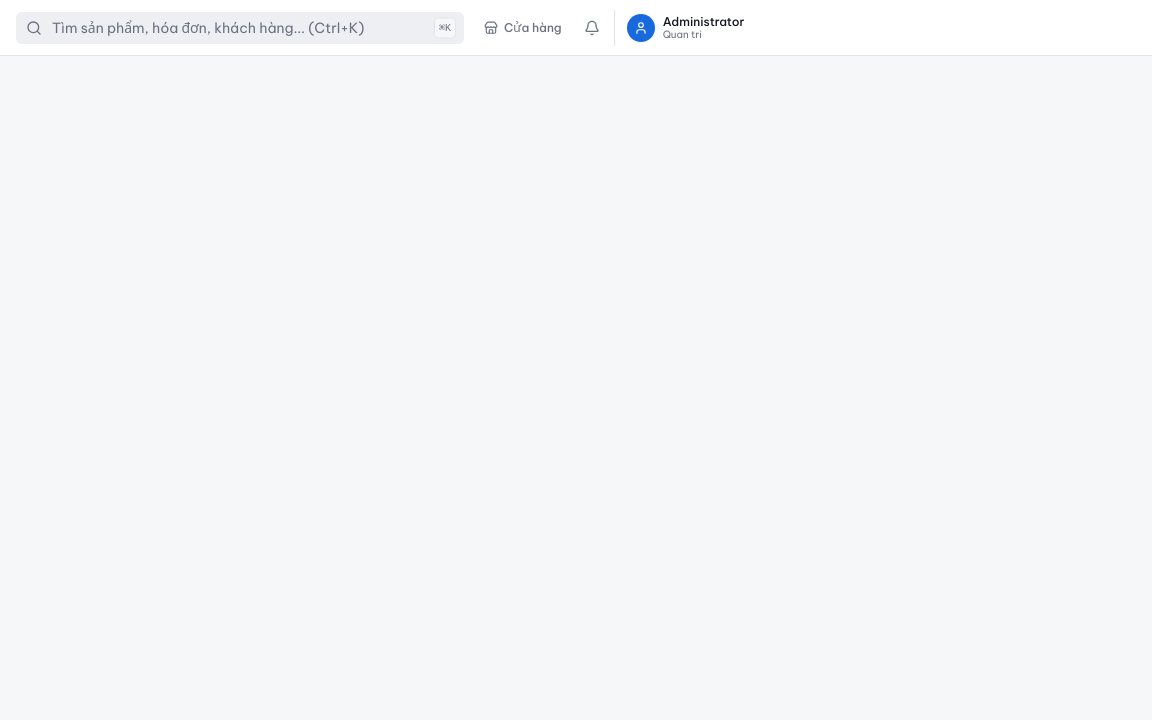
AdminTopbar search › shows the full product search batch instead of capping products at 5
Type "phoi suong" into the field at (240, 28), box left=16, top=12, right=464, bottom=44
Wait 250 ms
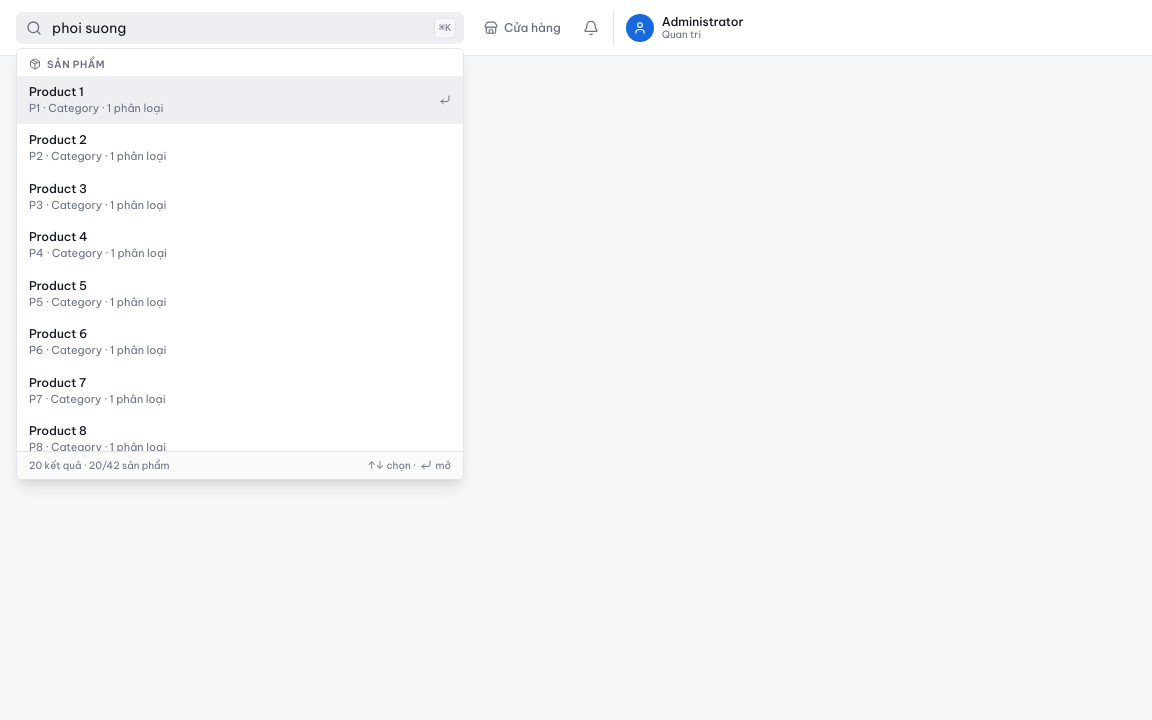
Expected: the text "Product 6" is shown, left=29, top=326, right=87, bottom=341
Expected: the text "20 kết quả · 20/42 sản phẩm" is shown, left=29, top=458, right=170, bottom=472
